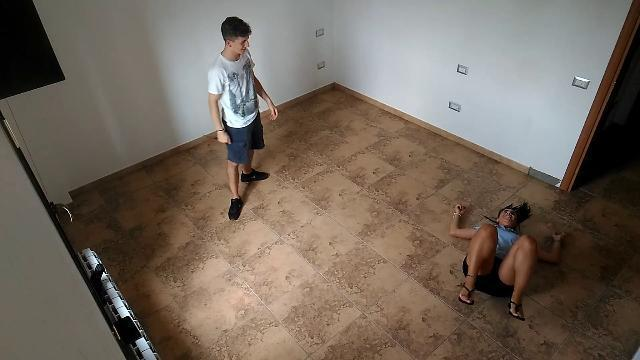knife: (206, 135, 218, 142)
non-violence: (206, 16, 278, 222), (448, 200, 566, 320)
